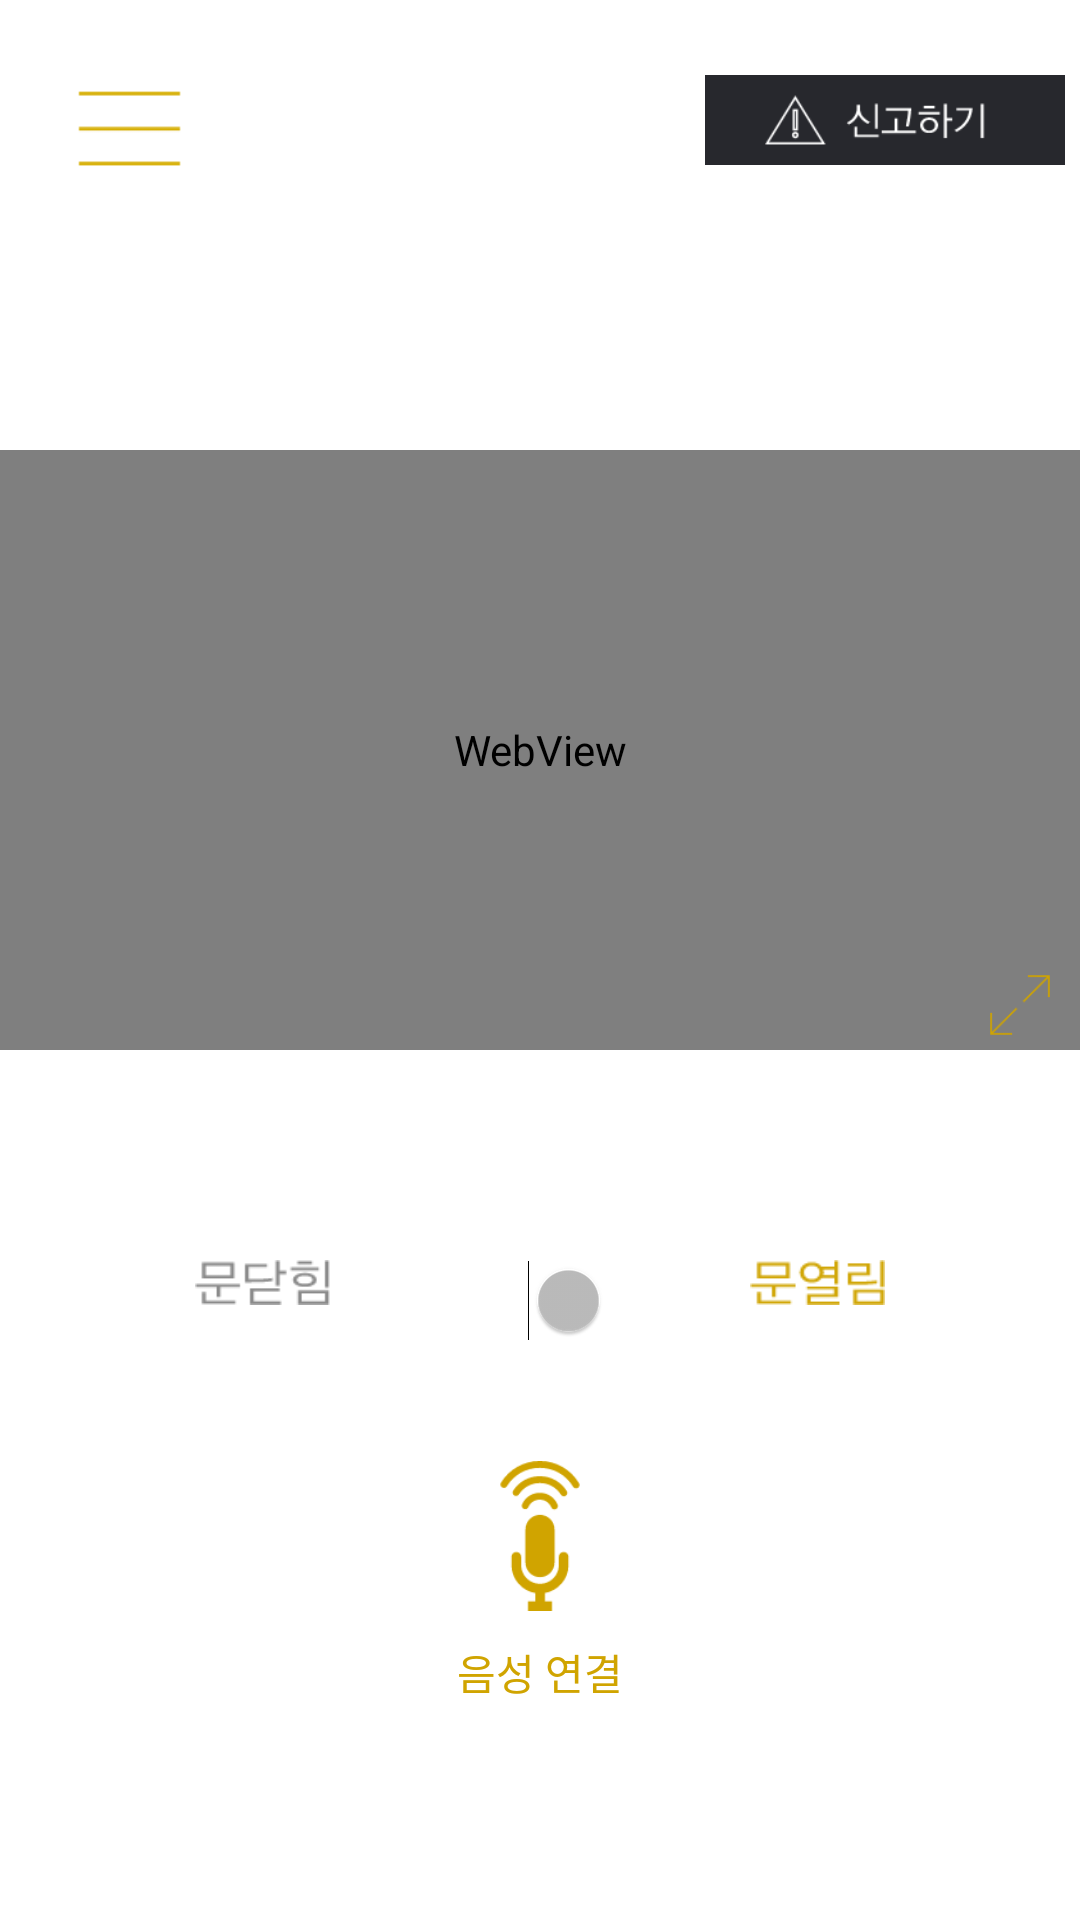

Icons on this 1080 x 1920 Android screen, each with its box as (x1, y1, x2, y2):
full screen: (990, 975, 1050, 1035)
microphone: (500, 1461, 580, 1611)
